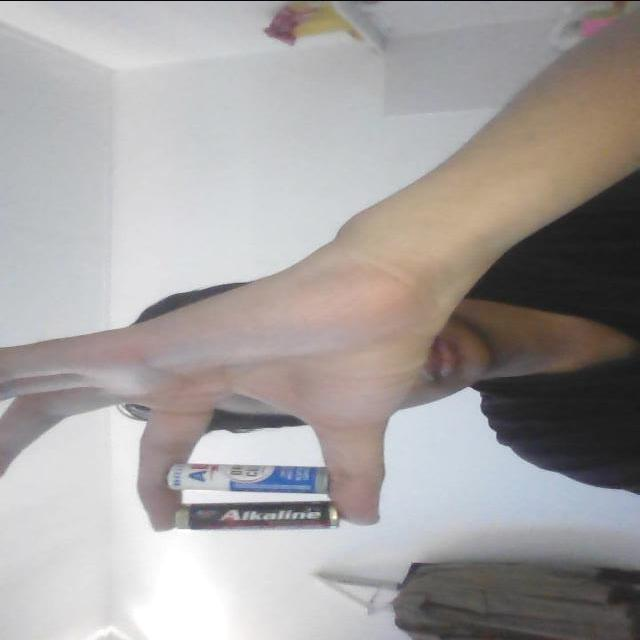AAA: (150, 499, 364, 538), (144, 461, 340, 497)
